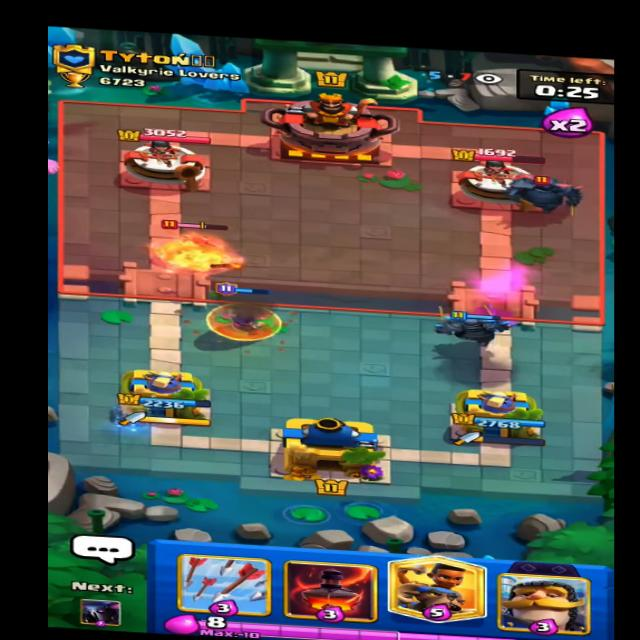pekka: (510, 166, 584, 217)
